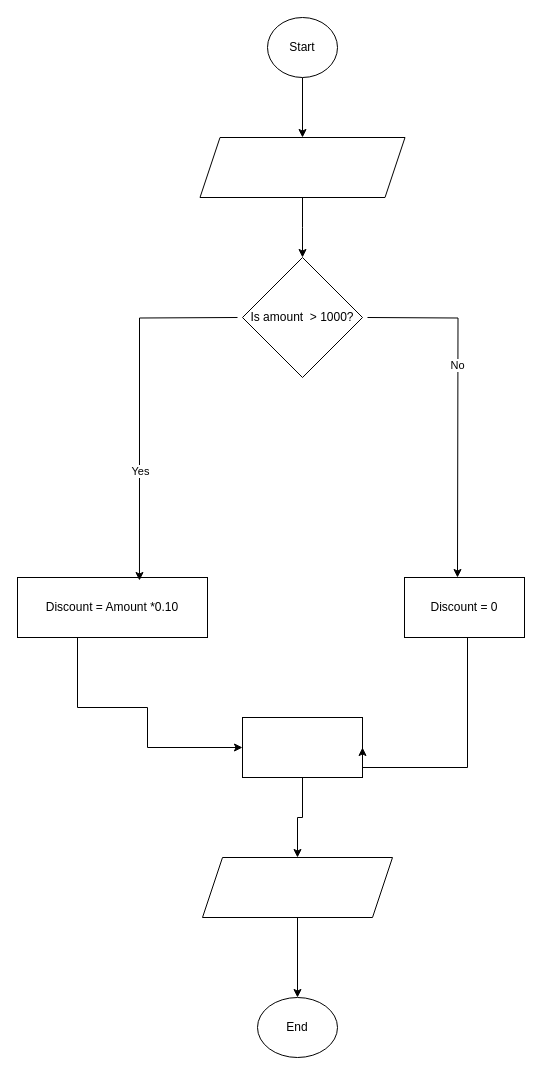
Some shapes in this 542 by 1075 pixel diagram are drawn without their labels. The shapes that lost their labels are listed below. From the top down, each one's box as (x1, y1, x2, y2) in pixels, then its label:
(199, 136, 405, 198): Input purchase amout
(242, 716, 362, 778): Final amount = Amount-Discount
(202, 856, 392, 918): Final Amount = Amount -Discount
